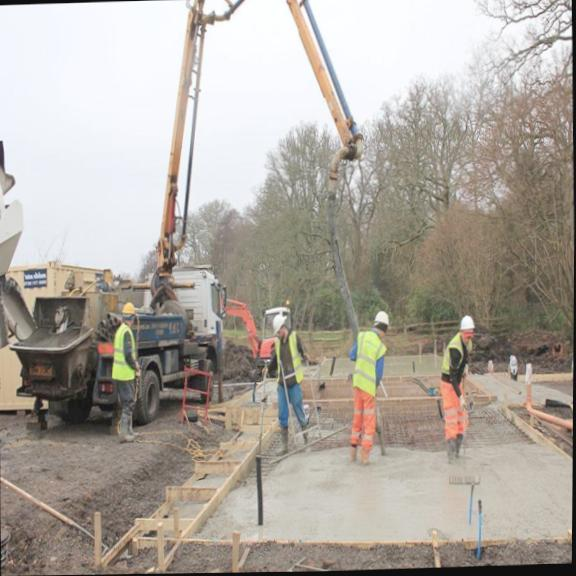safety_vest: (271, 331, 307, 391), (352, 333, 388, 393), (109, 327, 136, 384), (439, 337, 475, 379)
